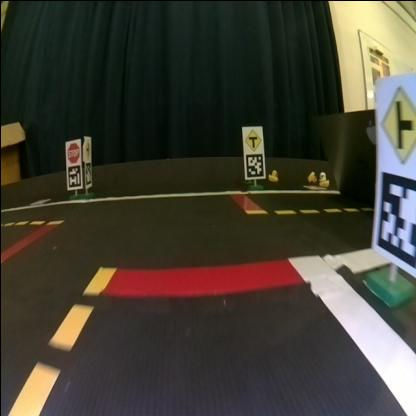Duckie: (318, 172, 326, 184), (268, 170, 275, 180), (308, 171, 314, 179)
Intersection sign: (380, 84, 416, 163), (241, 126, 262, 148), (83, 139, 90, 158)
QR code: (376, 170, 414, 264), (244, 152, 262, 176), (66, 164, 80, 186), (84, 162, 90, 183)
Stop sign: (66, 140, 78, 162)
